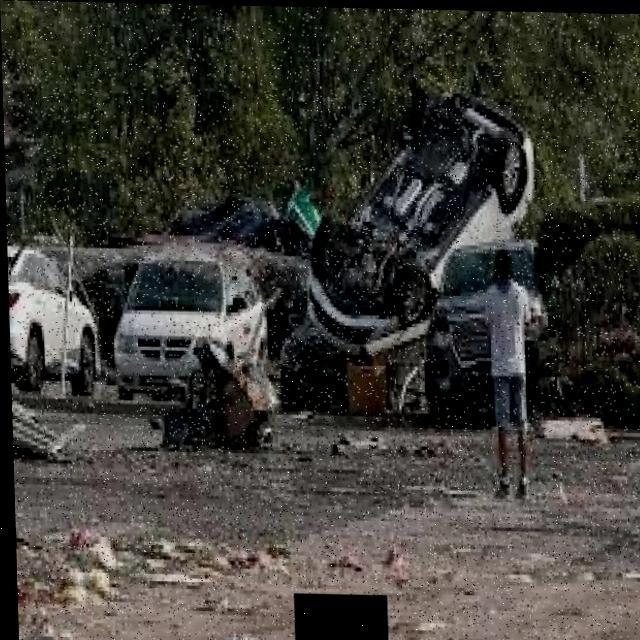single accident: (286, 62, 563, 428)
